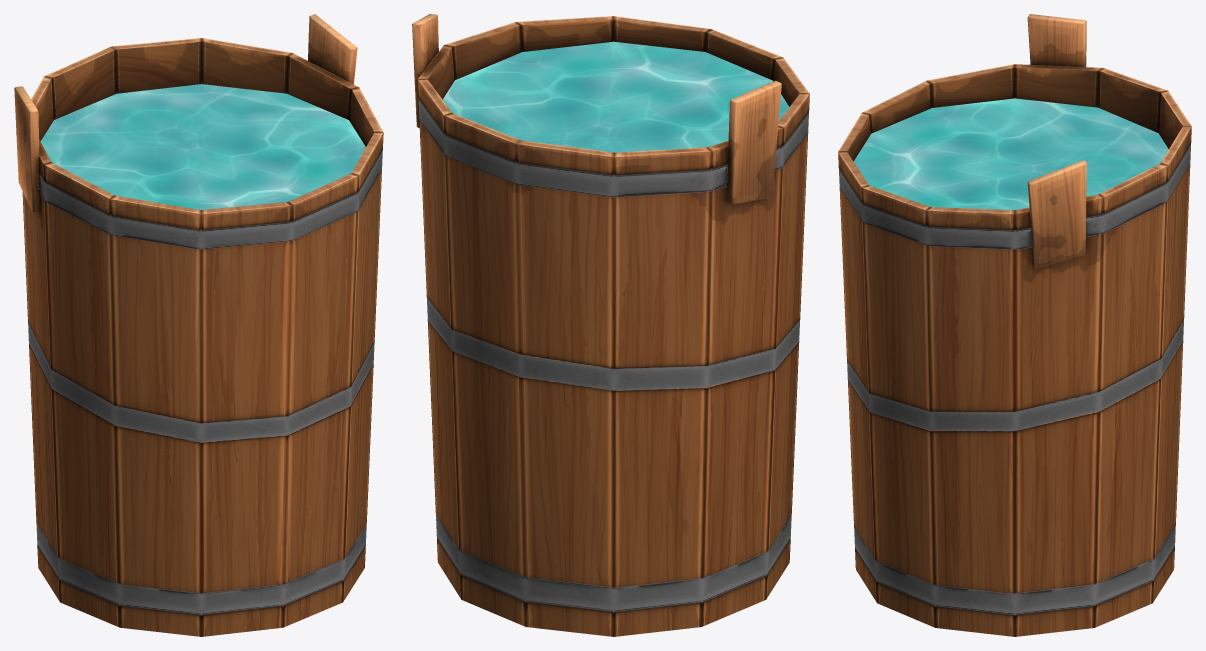
Rendered from BarrelWooden02_2.FBX.
The picture shows the model from 3 angles, left to right: view 1: azimuth 30°, elevation 25°; view 2: azimuth 150°, elevation 25°; view 3: azimuth 270°, elevation 25°; orthographic projection. The views are drawn at different scales.
Parts seen in each view (by area): view 1: BarrelWooden02_2; view 2: BarrelWooden02_2; view 3: BarrelWooden02_2.
Part boxes in pixels (bbox=[...]): BarrelWooden02_2: bbox=[14, 14, 383, 636]; BarrelWooden02_2: bbox=[412, 14, 809, 636]; BarrelWooden02_2: bbox=[838, 14, 1191, 636].
Size of what is drawn, in the model's own units: 0.7498 by 1.07 by 0.7188.
